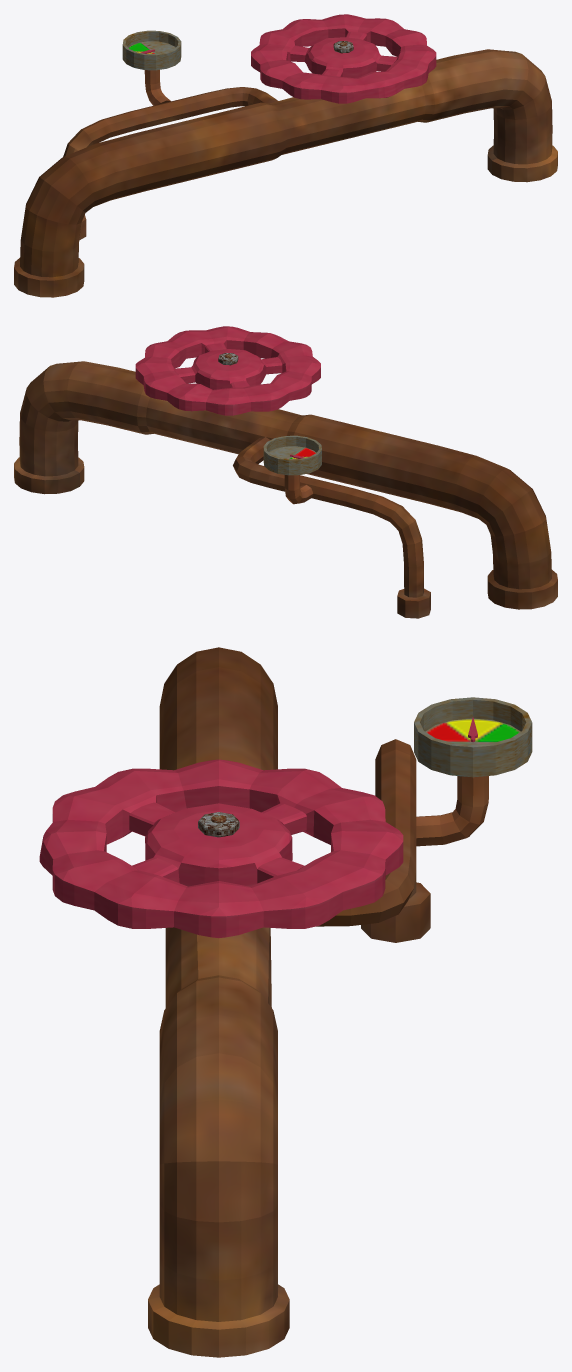
Rendered from Valvula.fbx.
The picture shows the model from 3 angles, top to bottom: view 1: azimuth 30°, elevation 25°; view 2: azimuth 150°, elevation 25°; view 3: azimuth 270°, elevation 25°; orthographic projection. The views are drawn at different scales.
Parts seen in each view (by area): view 1: Tuberia, Valvula, Manometro; view 2: Tuberia, Valvula, Manometro; view 3: Tuberia, Valvula, Manometro.
Boxes of the visible parts, left/top/right/bottom form: Tuberia: left=14, top=49, right=557, bottom=297; Valvula: left=251, top=14, right=436, bottom=103; Manometro: left=122, top=30, right=181, bottom=70; Tuberia: left=14, top=361, right=557, bottom=618; Valvula: left=135, top=326, right=320, bottom=415; Manometro: left=263, top=435, right=321, bottom=475; Tuberia: left=148, top=647, right=488, bottom=1357; Valvula: left=39, top=759, right=403, bottom=938; Manometro: left=414, top=697, right=532, bottom=777.
Size of the model in its own units: 41.8 by 12.5 by 16.66.
